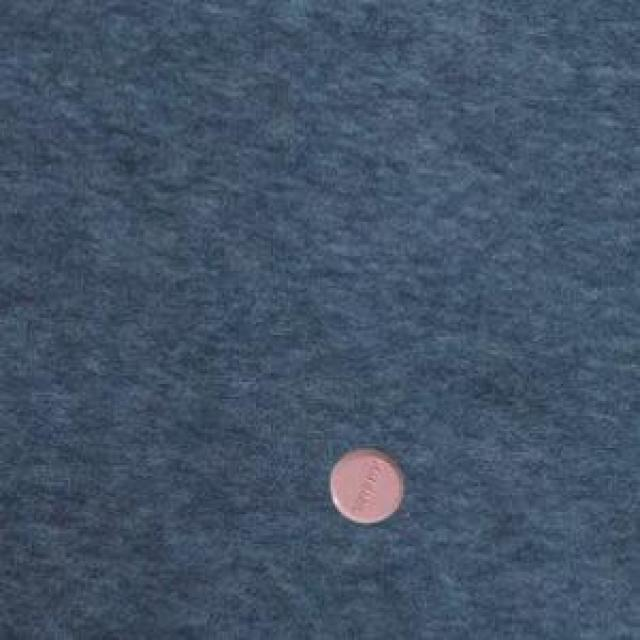Kremil_S: (320, 439, 412, 529)
